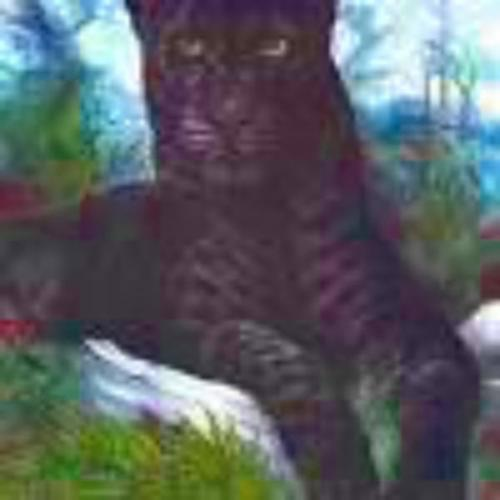panther-endangered: (26, 16, 483, 500)
